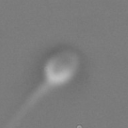normal: (1, 81, 50, 128)
